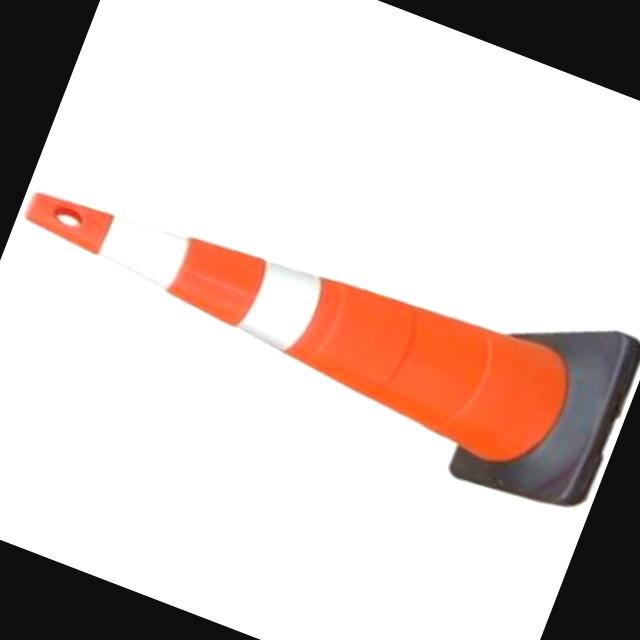cone: (0, 111, 640, 530)
